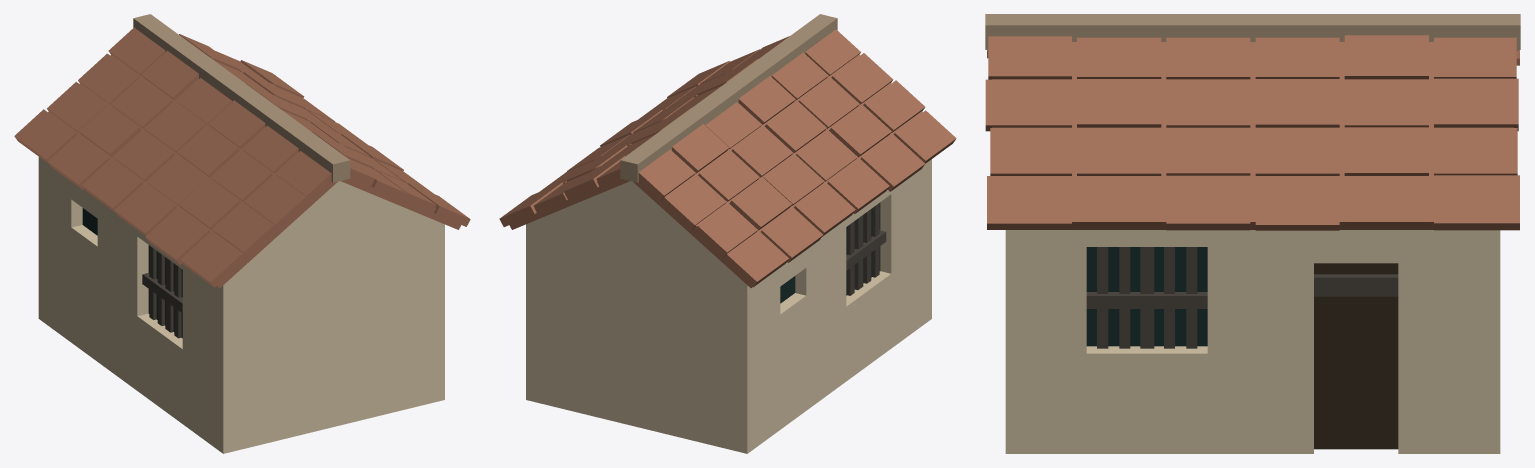
The model's file is Building_mode_L2_Northhouse008.fbx.
3 views of the same model, side by side, from view 1: azimuth 30°, elevation 25°; view 2: azimuth 150°, elevation 25°; view 3: azimuth 270°, elevation 25° (orthographic). The views are drawn at different scales.
Parts seen in each view (by area): view 1: Building_mode_L2_Northhouse008; view 2: Building_mode_L2_Northhouse008; view 3: Building_mode_L2_Northhouse008.
Part boxes in pixels (left/top/right/bottom): Building_mode_L2_Northhouse008: left=14, top=14, right=470, bottom=453; Building_mode_L2_Northhouse008: left=499, top=14, right=956, bottom=453; Building_mode_L2_Northhouse008: left=985, top=14, right=1520, bottom=453.
Size of the model in its own units: 2.86 by 2.83 by 3.79.
